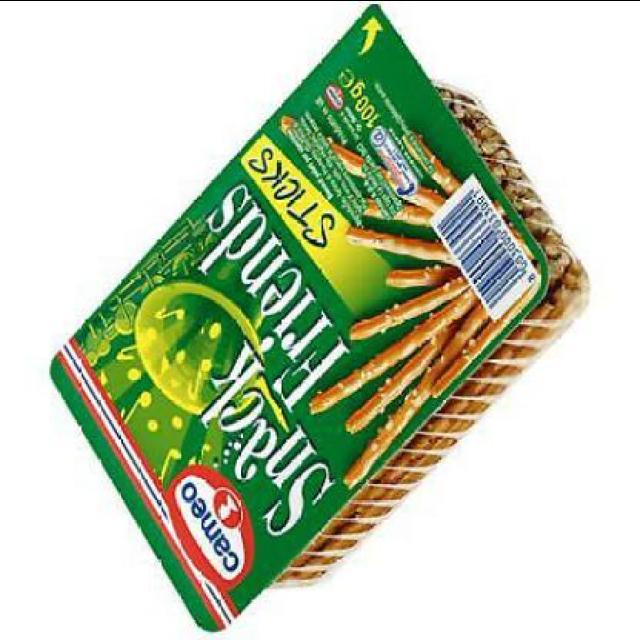Salatini: (52, 1, 584, 622)
